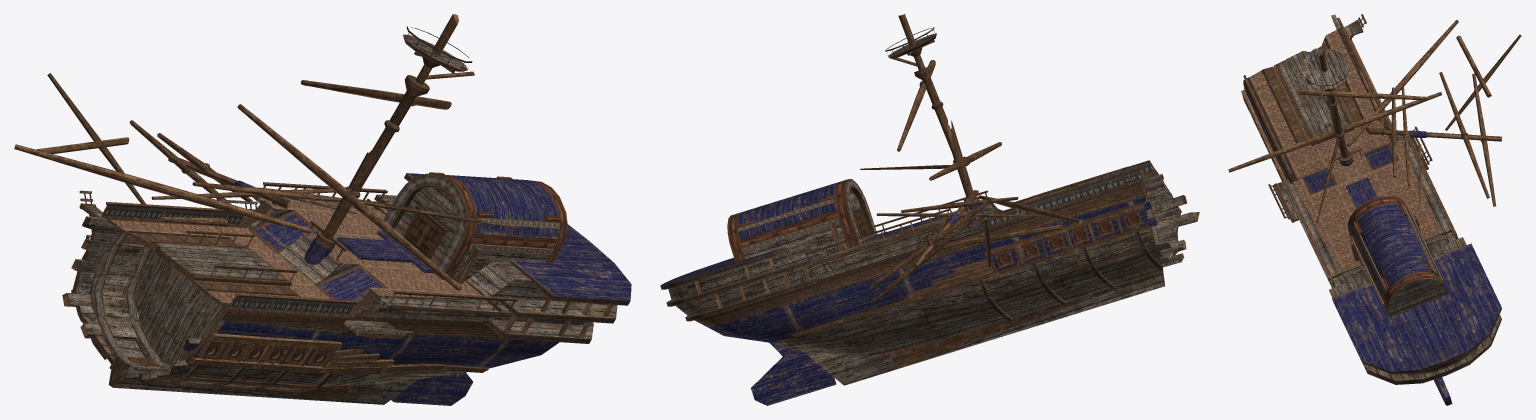
The model's file is O_mdl_env_propLargeShipBrokenBackB-transformed.glb.
3 renders of one model, left to right at view 1: azimuth 30°, elevation 25°; view 2: azimuth 150°, elevation 25°; view 3: azimuth 270°, elevation 25°, orthographic. The views are drawn at different scales.
Parts seen in each view (by area): view 1: default; view 2: default; view 3: default.
Boxes of the visible parts, x1=… form: default: x1=14, y1=14, x2=631, y2=405; default: x1=660, y1=14, x2=1199, y2=405; default: x1=1228, y1=14, x2=1521, y2=405.
Size of the model in its own units: 22.55 by 16.99 by 13.91.
Materials: 7 (7 with a texture image).
